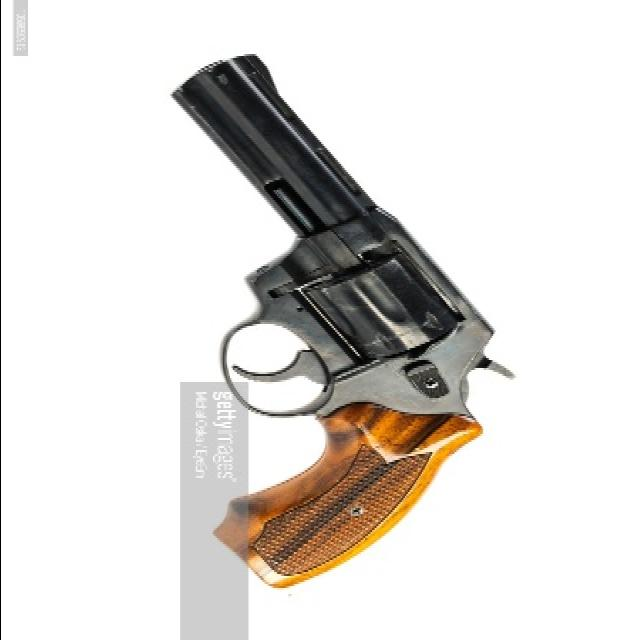handgun: (168, 49, 525, 591)
